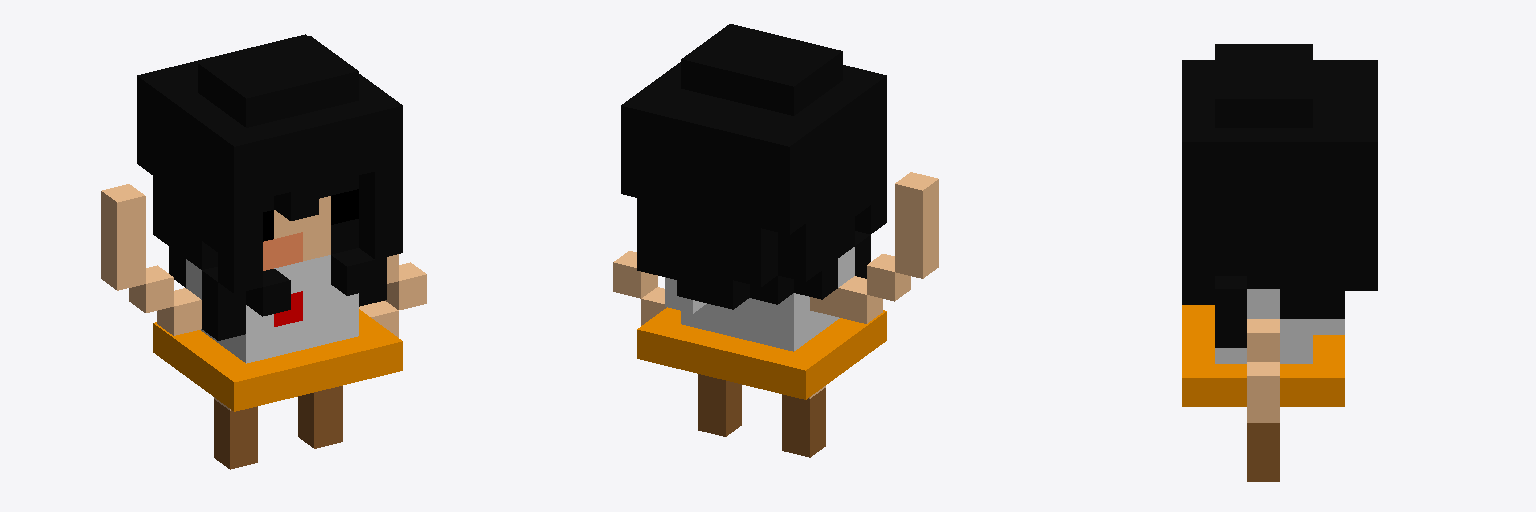
The picture shows the model from 3 angles: view 1: azimuth 30°, elevation 25°; view 2: azimuth 150°, elevation 25°; view 3: azimuth 270°, elevation 25°; orthographic projection.
Visible parts, largest first — view 1: object 1; view 2: object 1; view 3: object 1.
Boxes of the visible parts, x1,y1,x2,y2 form: object 1: [101, 34, 426, 469]; object 1: [613, 24, 938, 457]; object 1: [1182, 44, 1377, 481].
Size of the model in its own units: 1.1 by 1.3 by 0.6.
Materials: 1 (1 with a texture image).